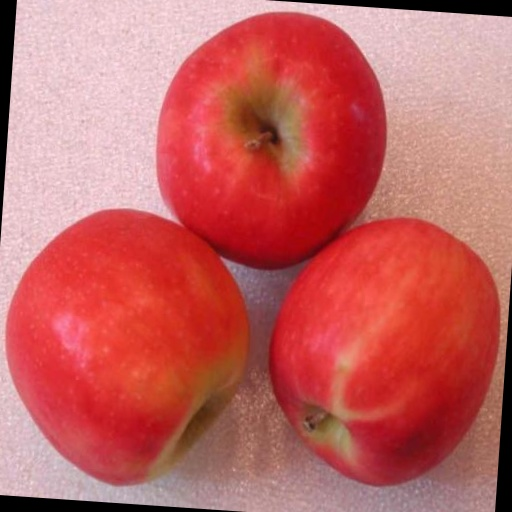fruit: (80, 169, 396, 512), (281, 98, 451, 312), (461, 198, 511, 512)
